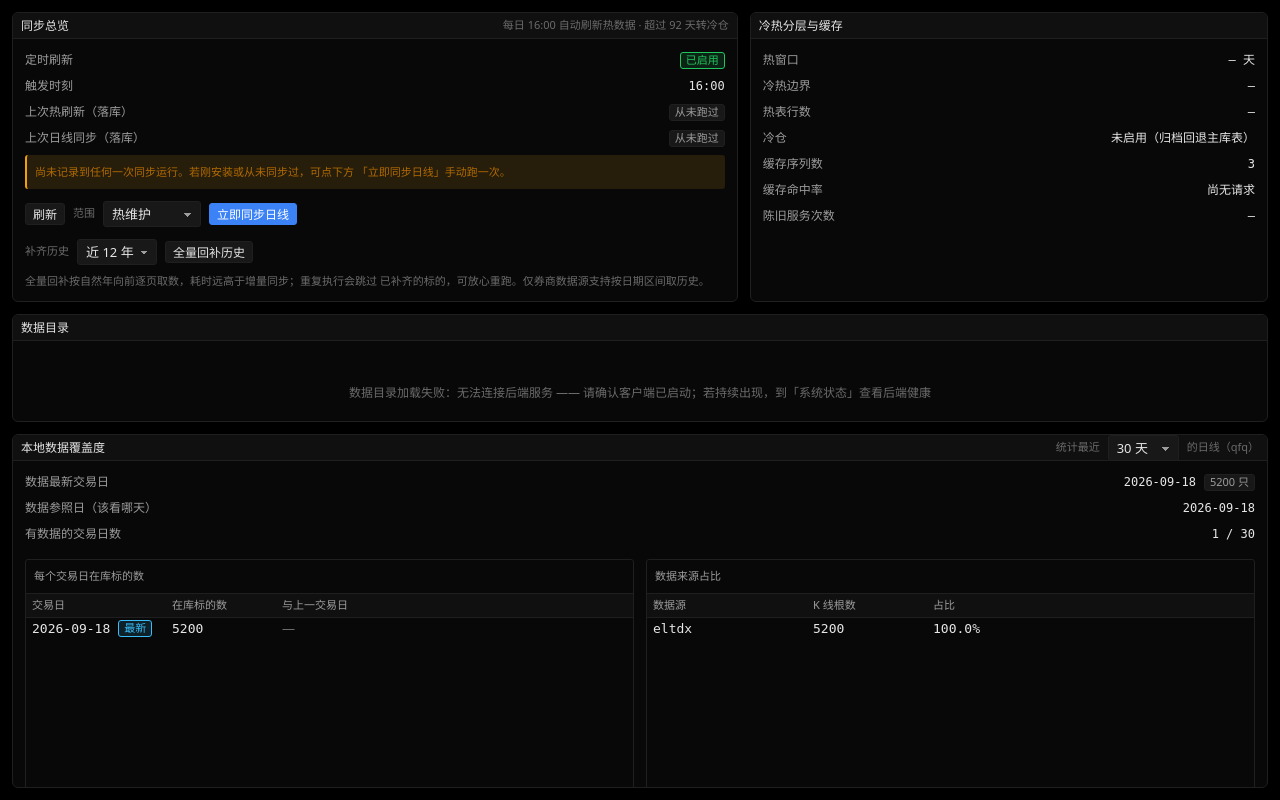
Test: 离线数据页 · 全量回补 › 点击「全量回补历史」提交 mode=full 的任务（并带上年数）
Click the button "全量回补历史": (209, 252) [165,241,253,263]
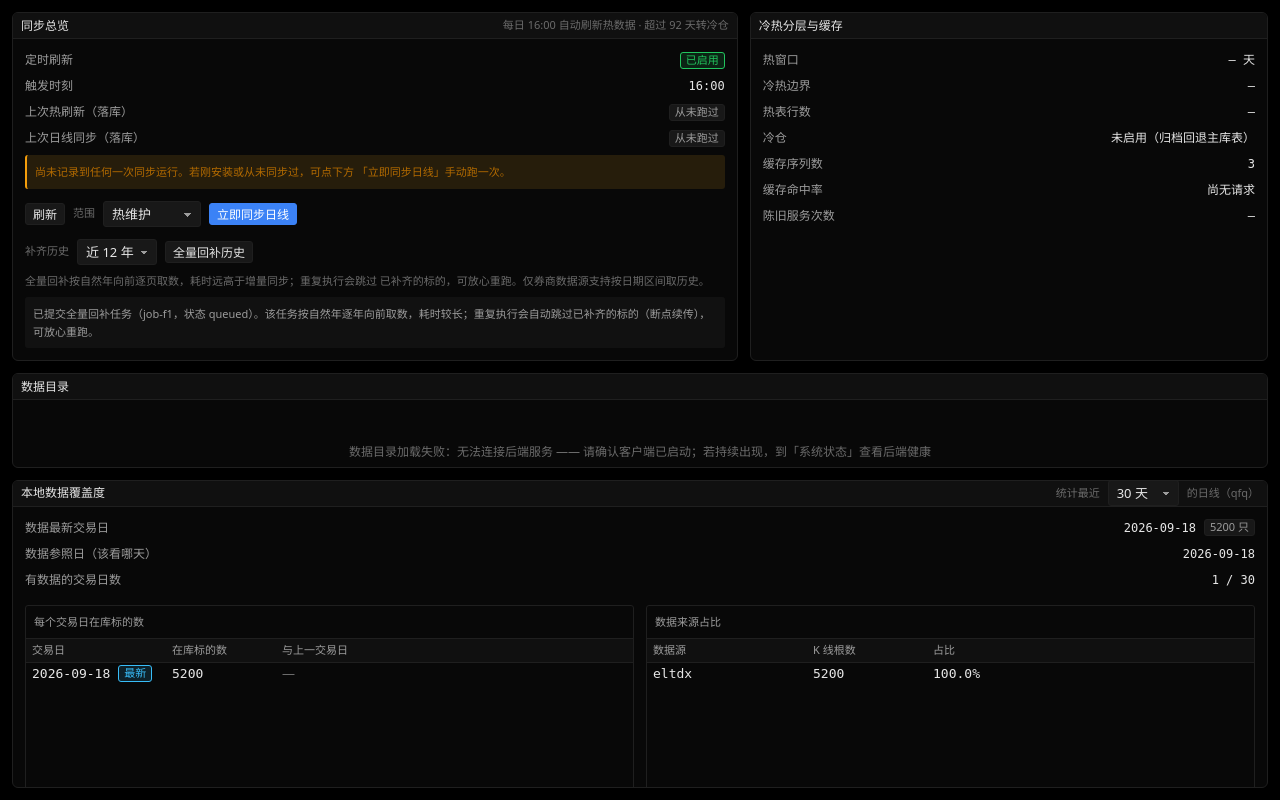
Expected: the text "已提交全量回补任务（job-f1" is shown, [33,306,710,339]
